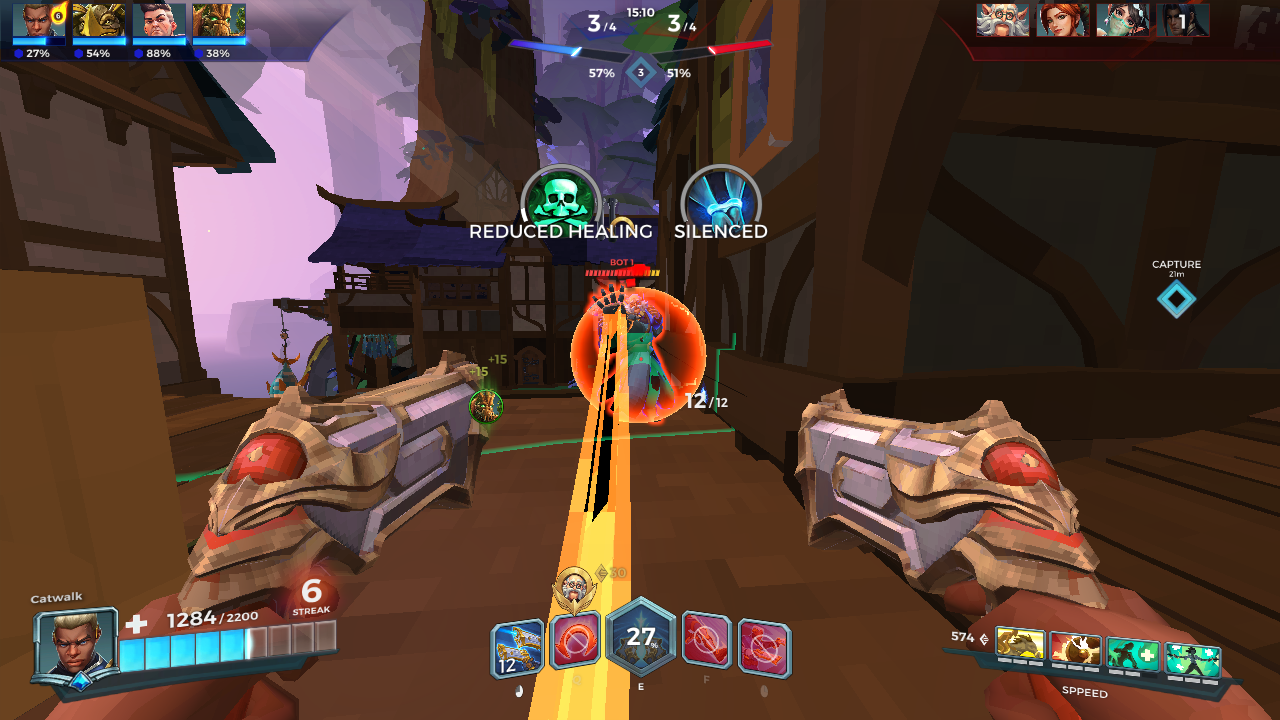model: (596, 286, 678, 429)
